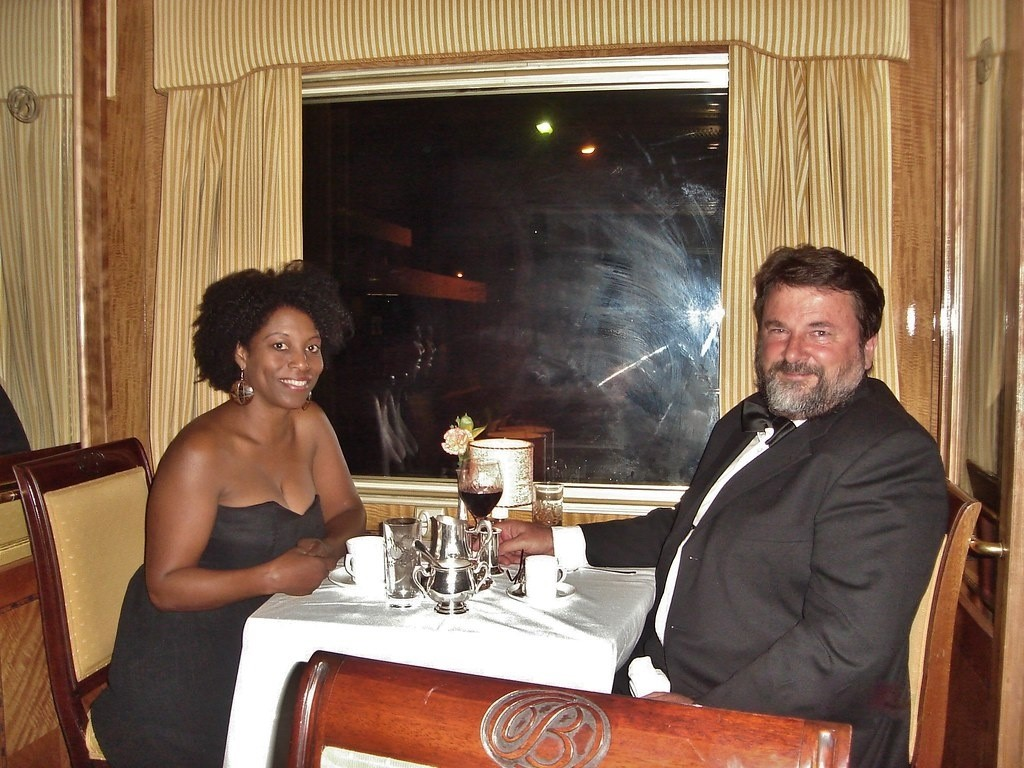face_no_mask: (752, 241, 885, 417), (197, 261, 338, 407)
